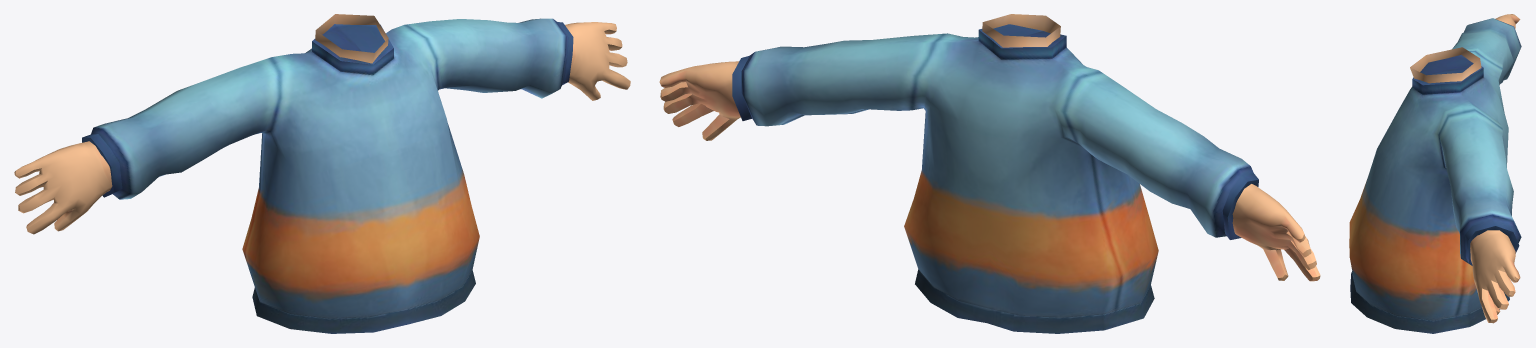
The model's file is camiseta_mangaLargaCA.FBX.
The picture shows the model from 3 angles, left to right: view 1: azimuth 30°, elevation 25°; view 2: azimuth 150°, elevation 25°; view 3: azimuth 270°, elevation 25°; orthographic projection. The views are drawn at different scales.
Parts seen in each view (by area): view 1: camiseta_mangaLarga; view 2: camiseta_mangaLarga; view 3: camiseta_mangaLarga.
Part boxes in pixels (<box>): camiseta_mangaLarga: <box>14,14,630,333</box>; camiseta_mangaLarga: <box>659,14,1320,333</box>; camiseta_mangaLarga: <box>1349,14,1521,333</box>.
Bounding box in the file's own units: 15.55 × 6.3 × 4.27.
Materials: 2 (2 with a texture image).
